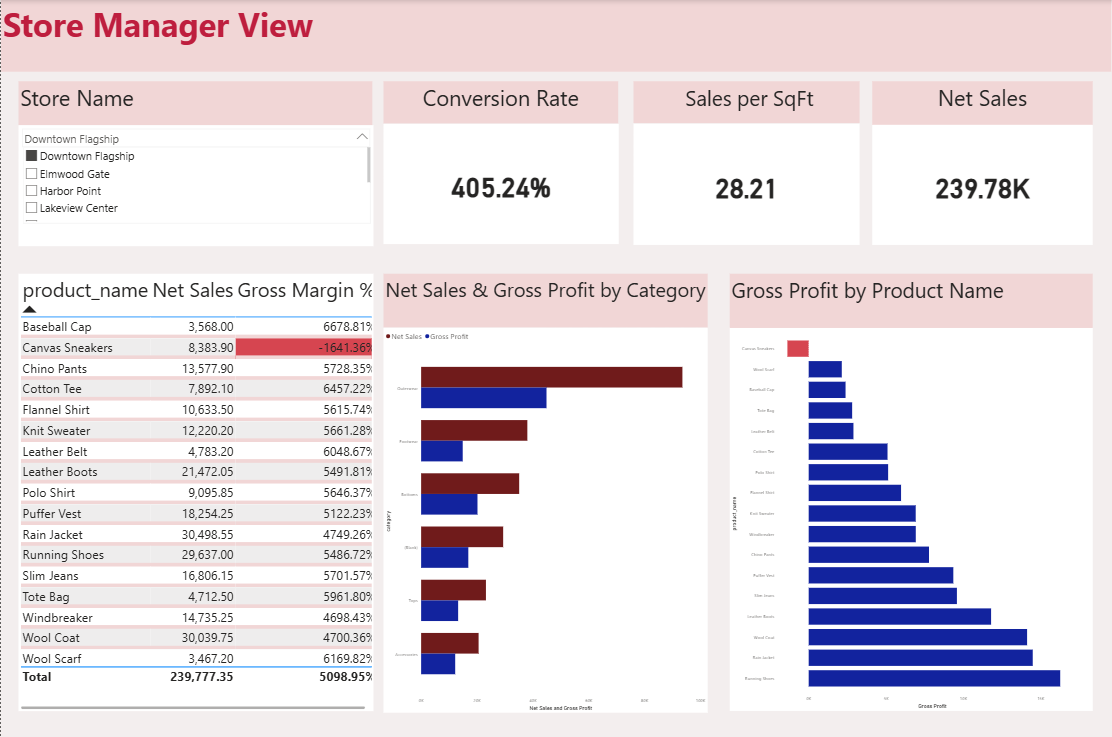

The dashboard page shown, as its layout file describes it:
{"tool":"powerbi","page":{"name":"Store Manager View","canvas":[3000,2014],"ordinal":0},"visuals":[{"type":"slicer","fields":{"Values":["stores.store_name"]},"box":[47.2,337.5,958.4,327.3],"z":0},{"type":"card","fields":{"Values":["daily_foot_traffic.Conversion Rate %"]},"box":[1032.5,335,635,325],"z":1000},{"type":"card","fields":{"Values":["daily_foot_traffic.Net Sales"]},"box":[2352.5,335,595,327.5],"z":2000},{"type":"card","fields":{"Values":["daily_foot_traffic.Sales per SqFt"]},"box":[1707.5,332.5,610,327.5],"z":3000},{"type":"clusteredBarChart","fields":{"Category":["products.category"],"Y":["daily_foot_traffic.Net Sales","daily_foot_traffic.Gross Profit"]},"box":[1033,885,875,1040],"z":4000},{"type":"tableEx","fields":{"Values":["products.product_name","daily_foot_traffic.Net Sales","daily_foot_traffic.Gross Margin %"]},"box":[47.2,739.1,958.4,1181.1],"z":5000},{"type":"clusteredBarChart","fields":{"Category":["products.product_name"],"Y":["daily_foot_traffic.Gross Profit"]},"box":[1967.5,885,980,1035],"z":6000},{"type":"textbox","box":[0,0,3000,193.3],"z":7000},{"type":"textbox","box":[47.2,219.4,955,118.1],"z":8000},{"type":"textbox","box":[1033.3,220,633.3,113.3],"z":9000},{"type":"textbox","box":[1707.5,220,610,112.5],"z":10000},{"type":"textbox","box":[2352.5,220,595,117.5],"z":11000},{"type":"textbox","box":[1033,740,875,145],"z":12000},{"type":"textbox","box":[1966.7,740,980,146.7],"z":13000}]}

Visuals, with their boxes in screenshot pixels (x1, y1, x2, y2), scaled from the page's 3000x2014 canvas onto the 1112x737 screenshot:
slicer - stores.store_name: detection(17, 124, 373, 243)
card - daily_foot_traffic.Conversion Rate %: detection(383, 123, 618, 242)
card - daily_foot_traffic.Net Sales: detection(872, 123, 1093, 242)
card - daily_foot_traffic.Sales per SqFt: detection(633, 122, 859, 242)
clusteredBarChart - products.category x daily_foot_traffic.Net Sales: detection(383, 324, 707, 704)
tableEx - products.product_name x daily_foot_traffic.Net Sales: detection(17, 270, 373, 703)
clusteredBarChart - products.product_name x daily_foot_traffic.Gross Profit: detection(729, 324, 1093, 703)
textbox: detection(0, 0, 1111, 71)
textbox: detection(17, 80, 371, 124)
textbox: detection(383, 81, 618, 122)
textbox: detection(633, 81, 859, 122)
textbox: detection(872, 81, 1093, 124)
textbox: detection(383, 271, 707, 324)
textbox: detection(729, 271, 1092, 324)
